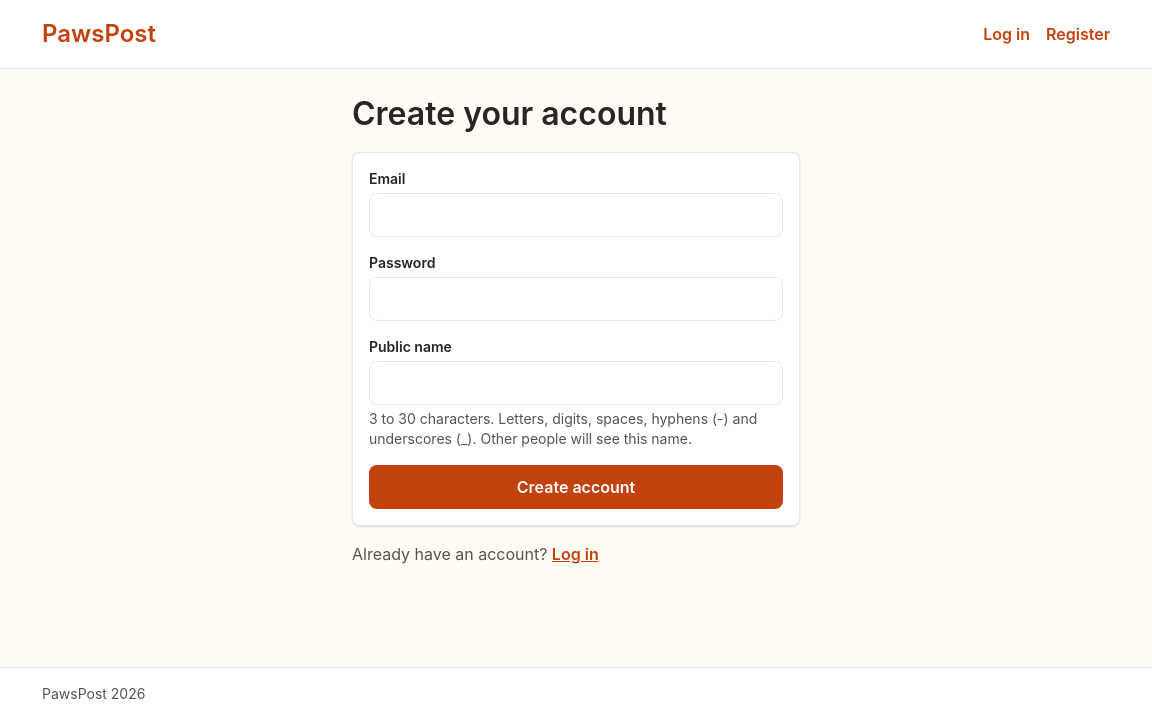
Test: RegisterPage › shows the generic friendly message when the network is down
Type "sara@example.com" into the field labelled "Email". click: (576, 215)
box: left=369, top=193, right=783, bottom=237
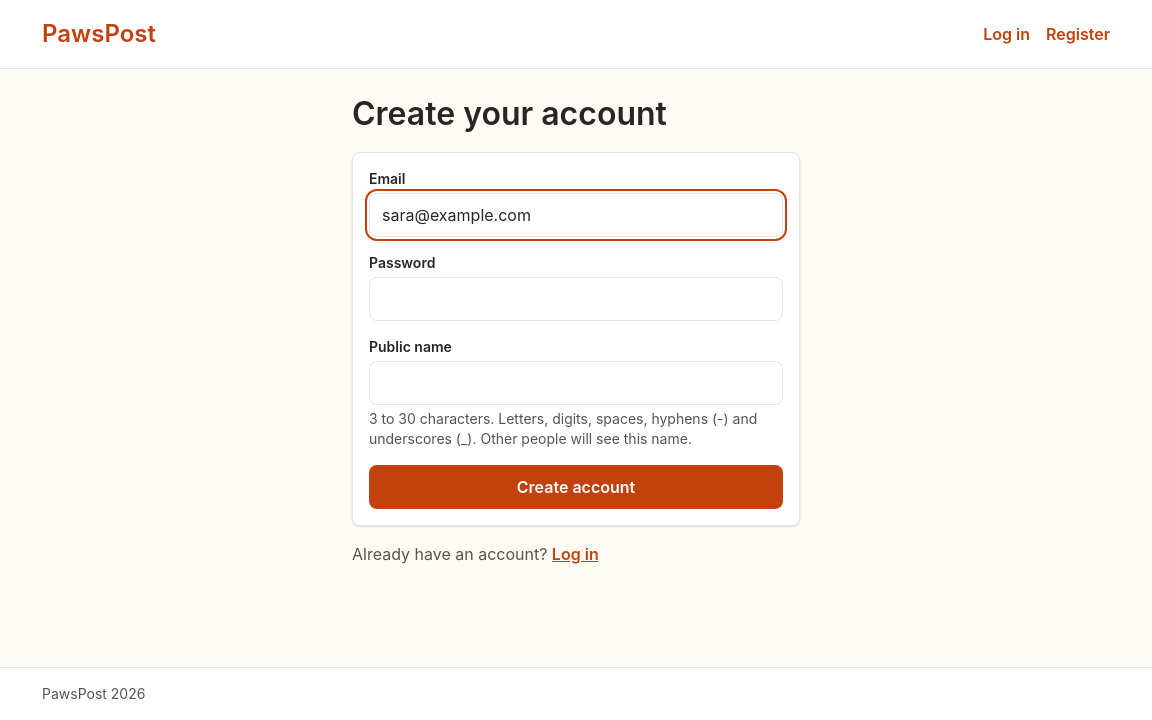
Type "Secret1!" into the password field labelled "Password". click: (576, 299)
box: left=369, top=277, right=783, bottom=321
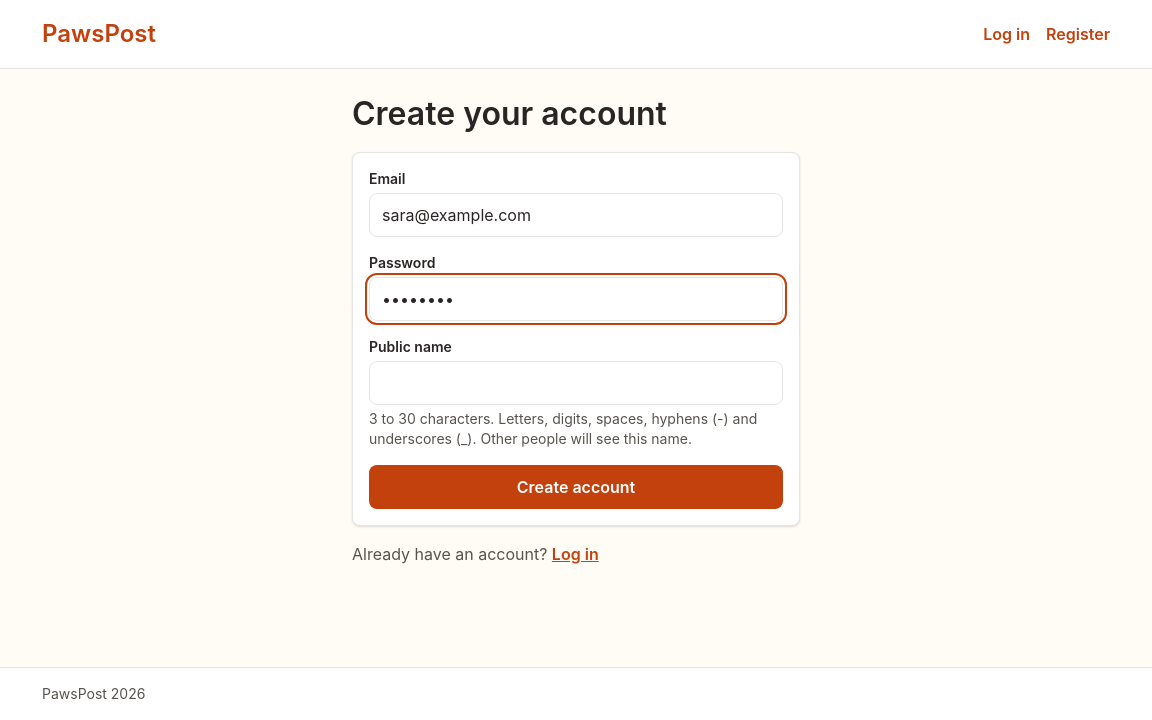
Type "Sara Test" into the field labelled "Public name". click: (576, 383)
box: left=369, top=361, right=783, bottom=405
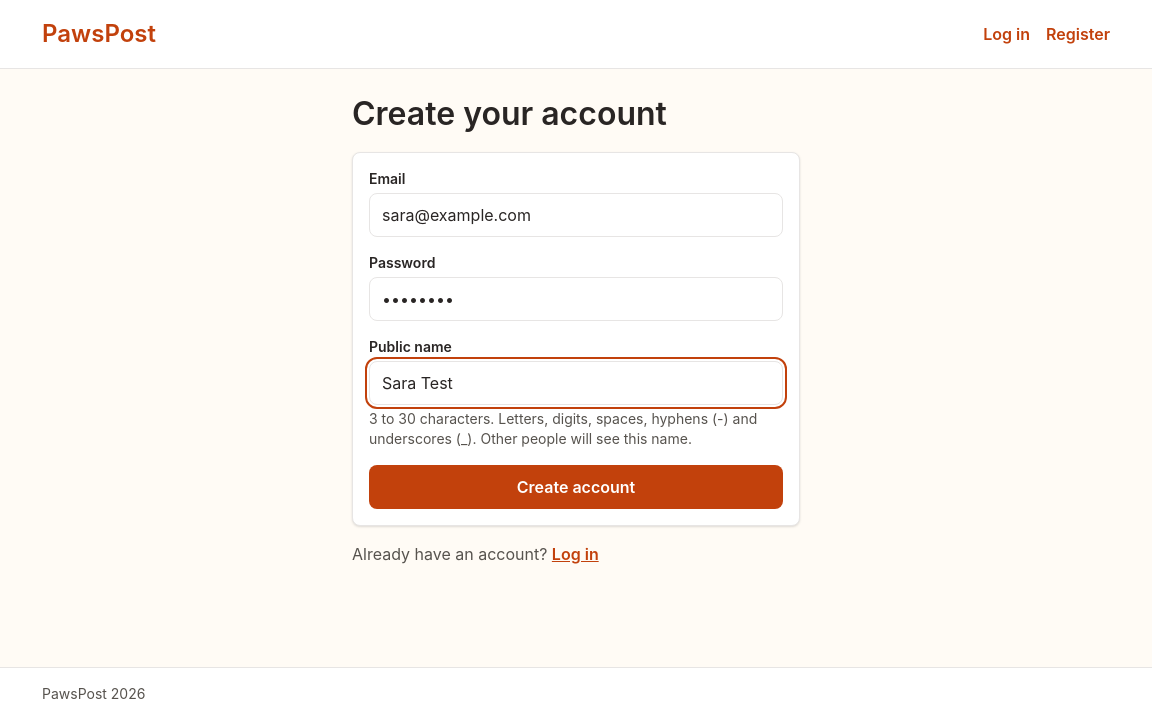
Click the button "Create account". click: (576, 487)
box: left=369, top=465, right=783, bottom=509
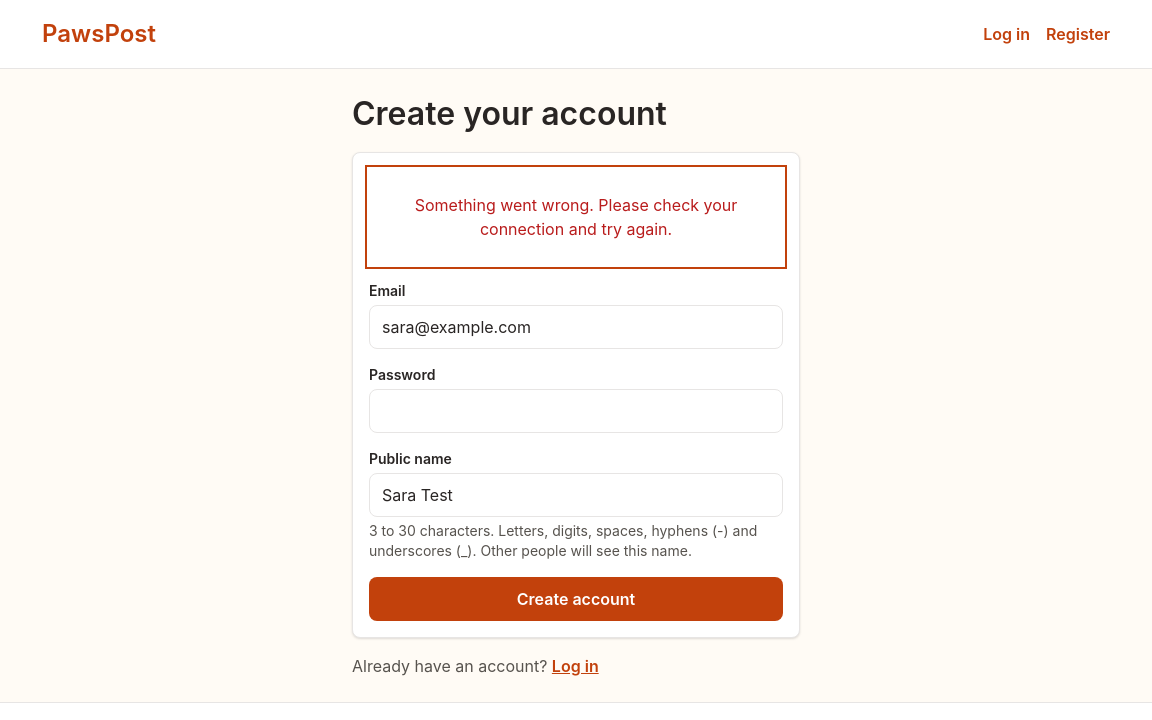
Check: the message reads "Something went wrong. Please check your connection and try again.", box left=415, top=195, right=737, bottom=239
